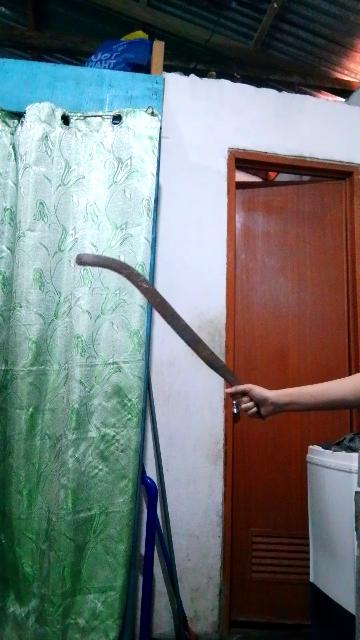long knife: (59, 248, 271, 424)
